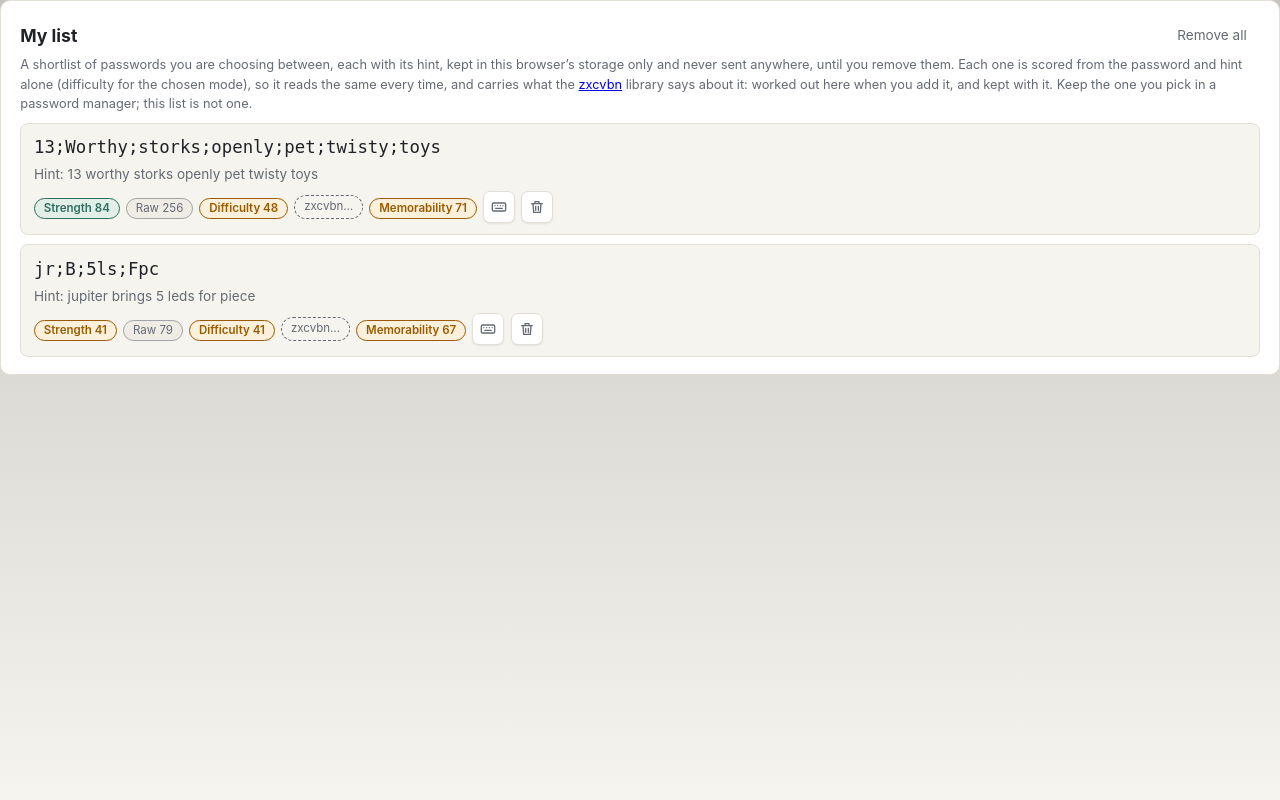
Test: SelectedList › removes one entry, and removes all only on a second click
Click the button named "Remove jr;B;5ls;Fpc from my list" at (527,329), box [511, 313, 543, 345]
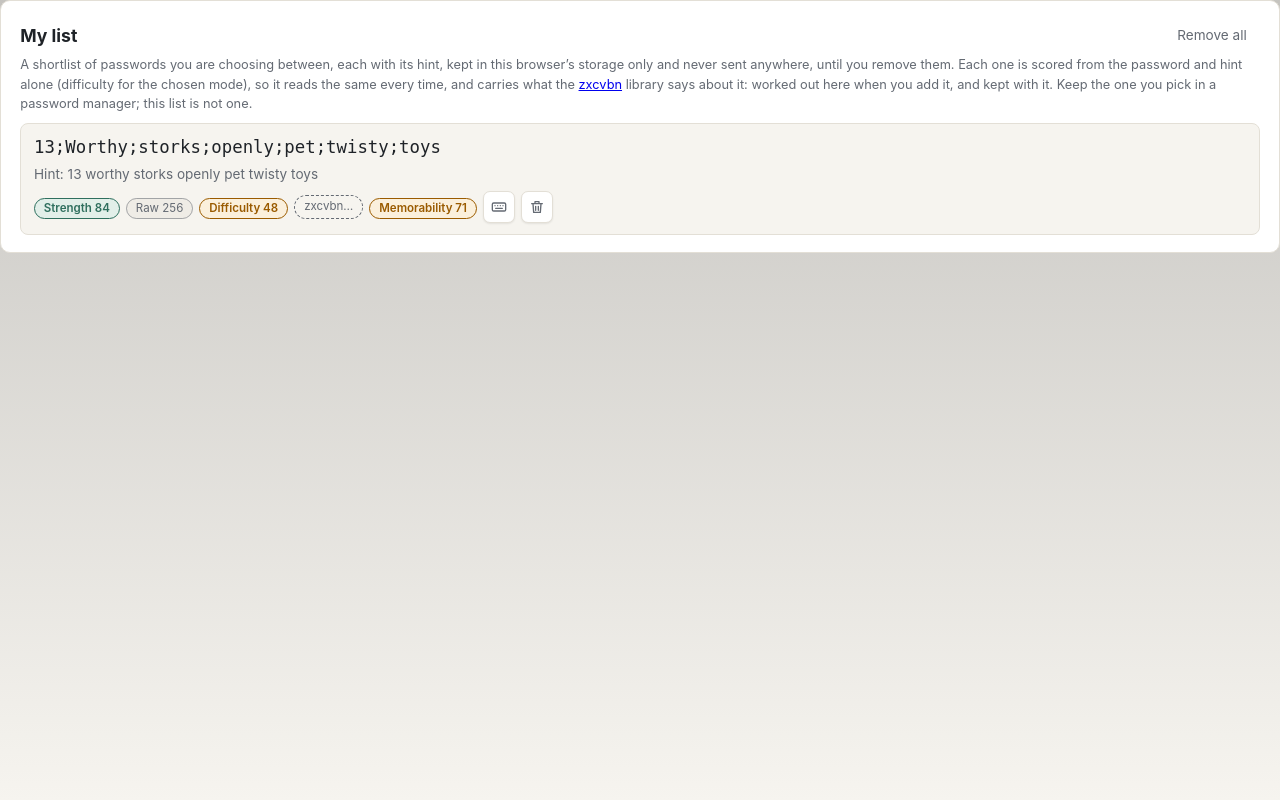
Expected: the number of list items is 1, [20, 122, 1260, 235]
Click the button "Remove all" at (1212,35), box [1164, 19, 1260, 52]
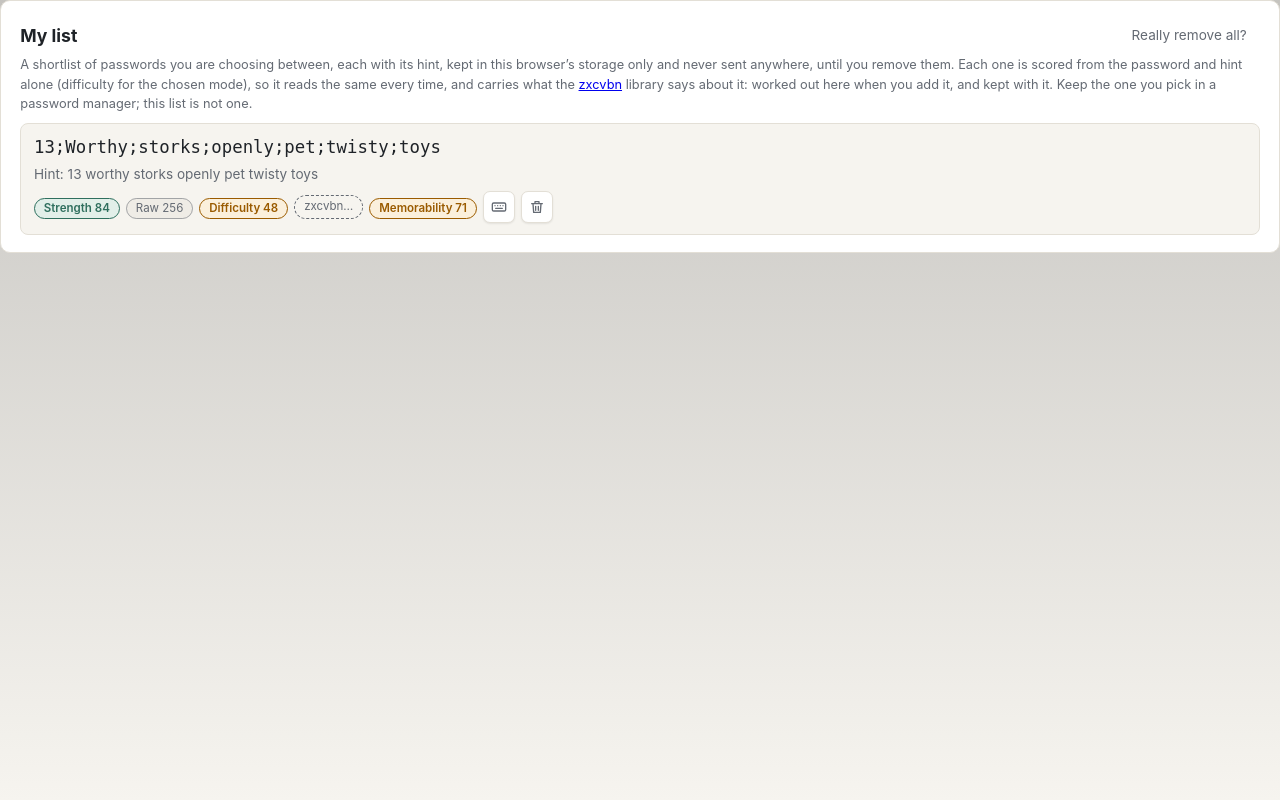
Expected: the list named "My passwords" is shown, [20, 122, 1260, 235]
Expected: the button "Really remove all?" is shown
Leave the button "Really remove all?", box [1118, 19, 1260, 52]
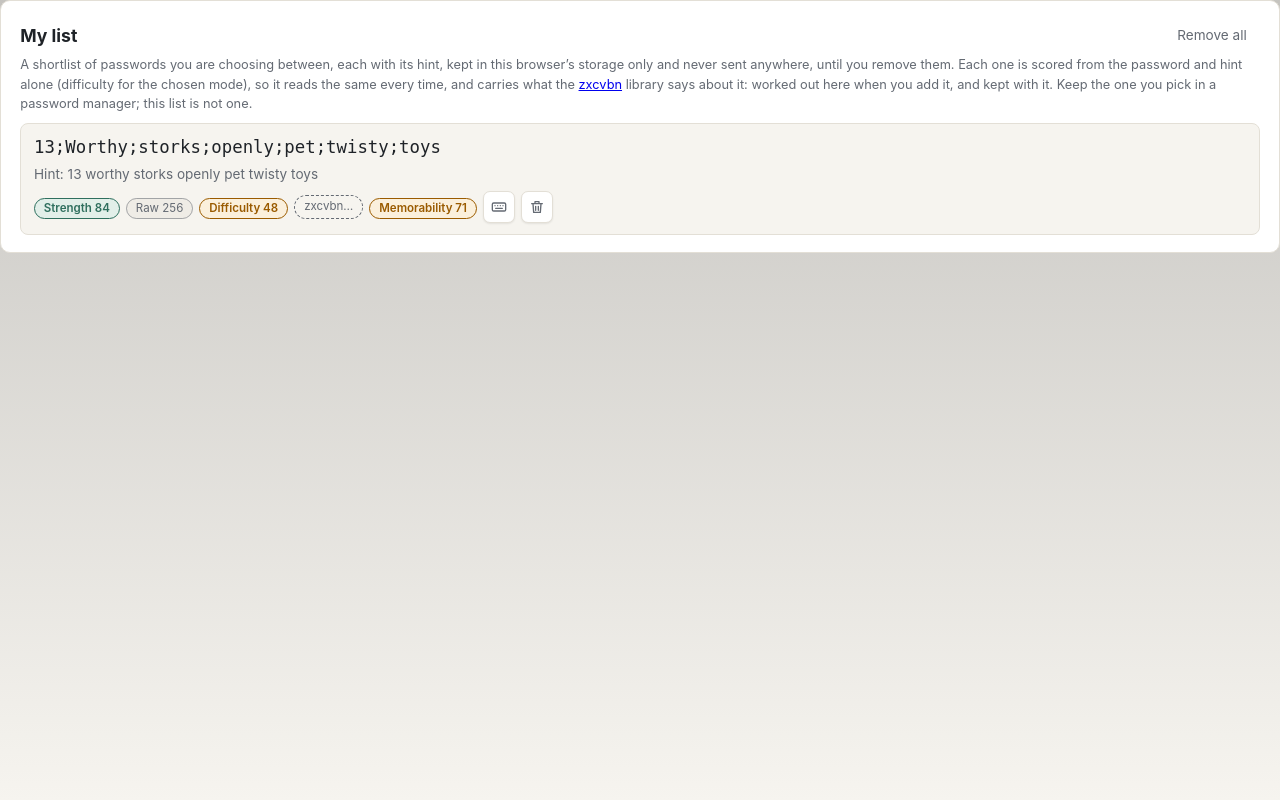
Expected: the button "Remove all" is shown
Click the button "Remove all" at (1212,35), box [1164, 19, 1260, 52]
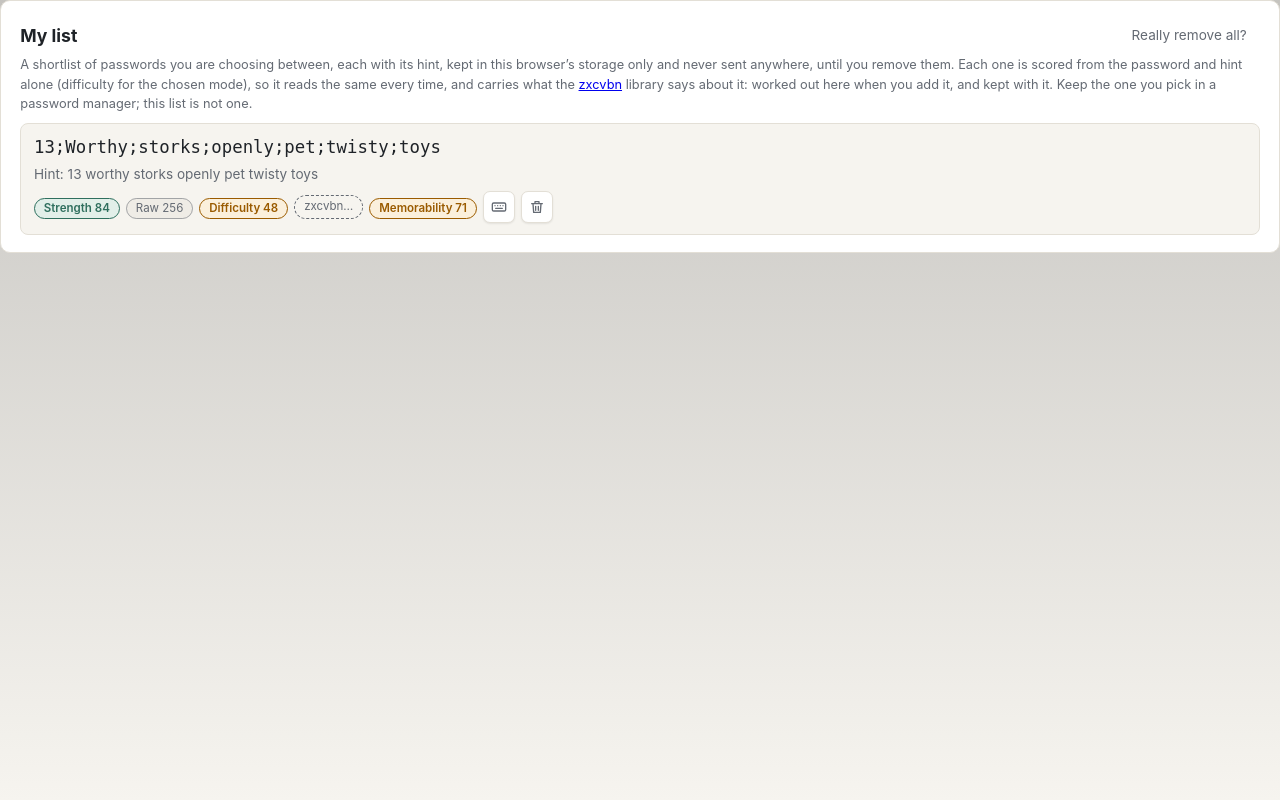
Click the button "Really remove all?" at (1189,35), box [1118, 19, 1260, 52]
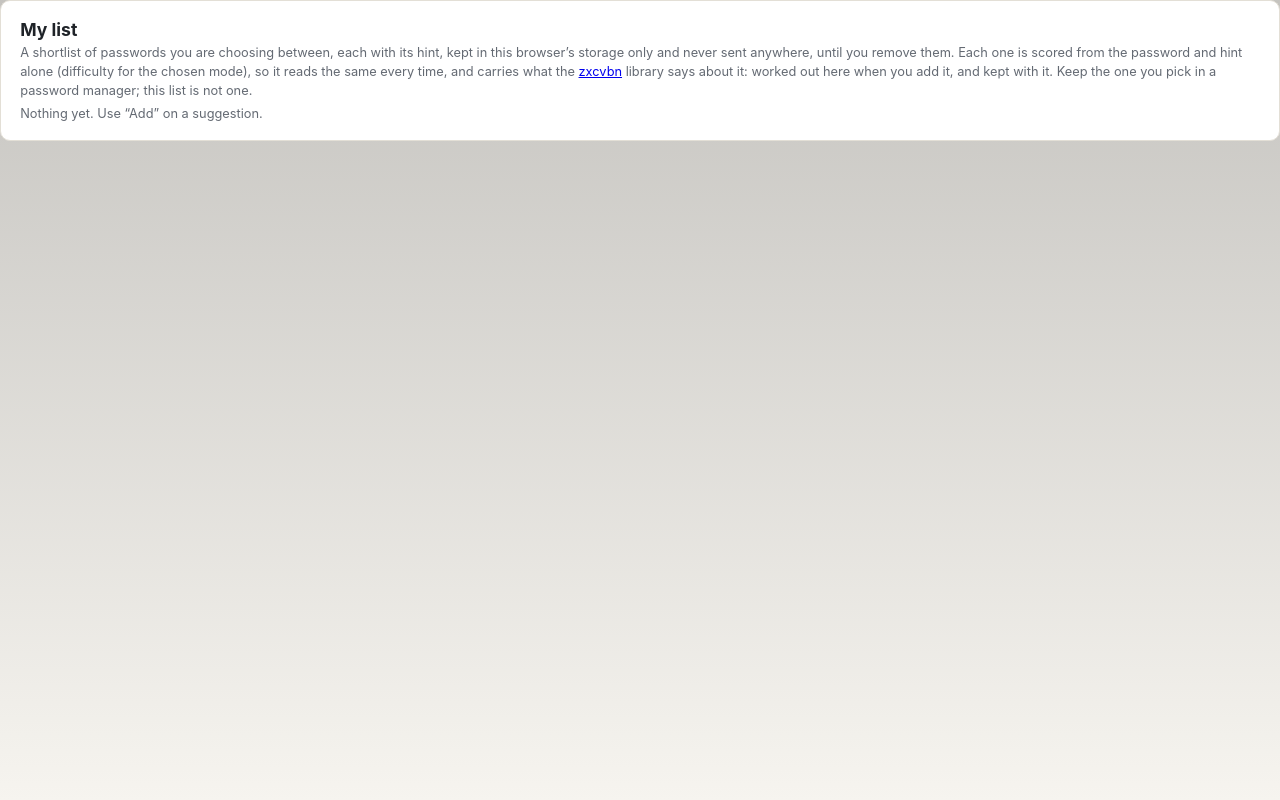
Expected: the text "Nothing yet. Use “Add” on a suggestion." is shown, [20, 106, 263, 121]
